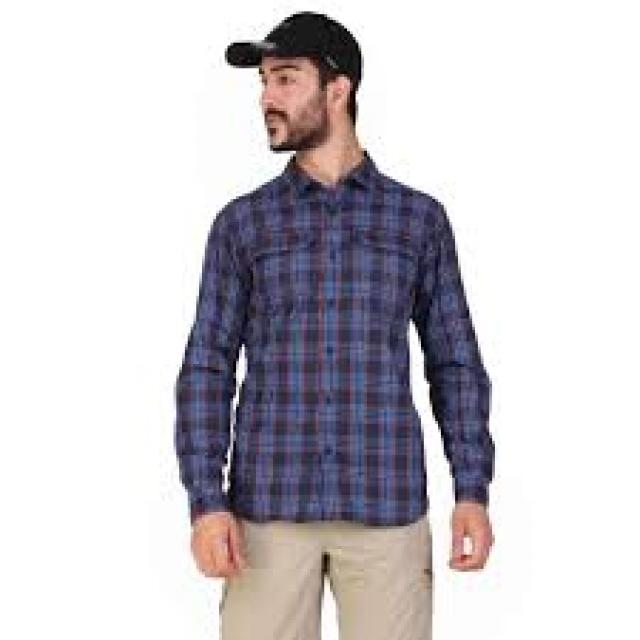plaid: (164, 164, 502, 526)
